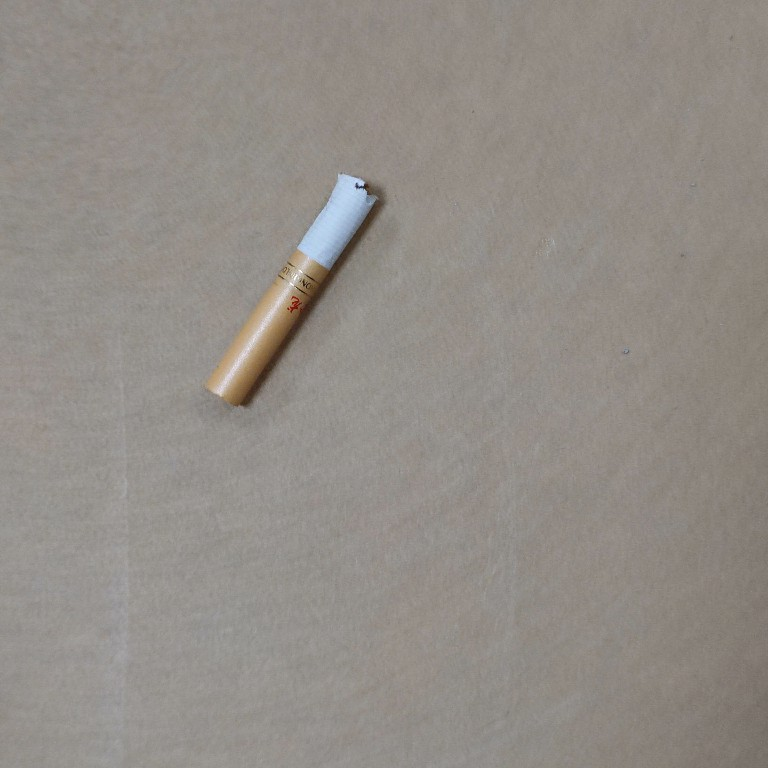cigarette: (198, 165, 385, 410)
